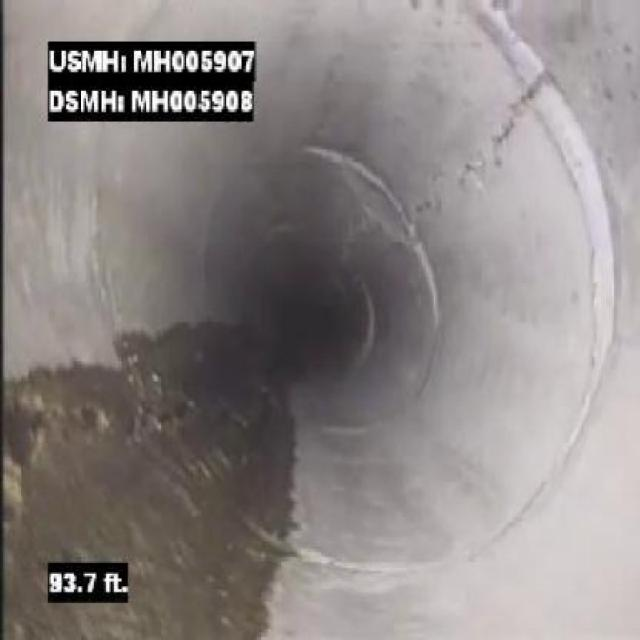Buckling: (5, 392, 152, 474)
Crack: (417, 70, 551, 212)
